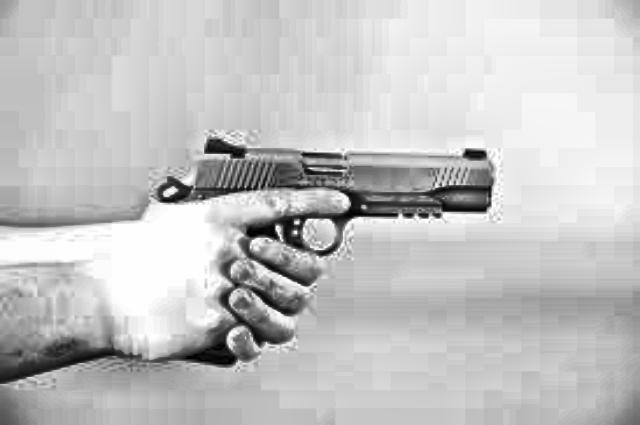pistol: (142, 114, 498, 370)
